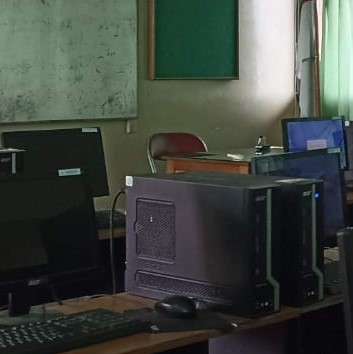monitor: (0, 171, 109, 307), (250, 147, 347, 247), (1, 127, 110, 199), (281, 116, 348, 170)
